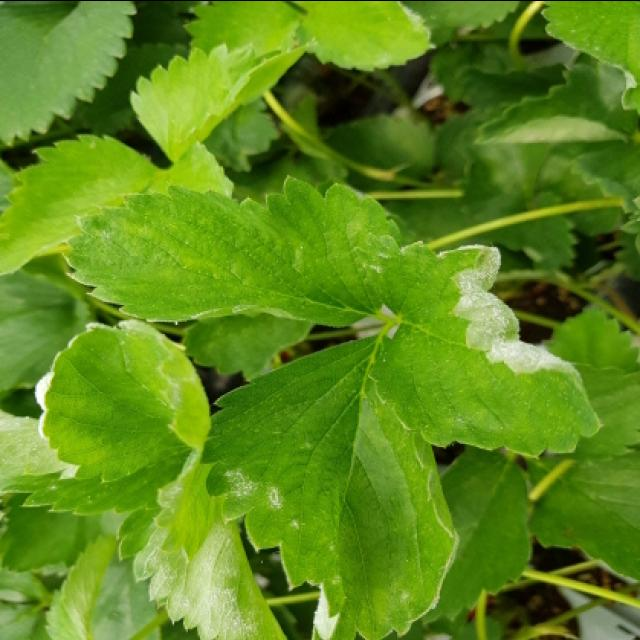Powdery Mildew Leaf: (199, 329, 463, 638), (355, 232, 603, 458), (59, 171, 403, 326), (117, 451, 290, 638), (34, 317, 211, 483), (0, 408, 188, 516), (295, 0, 439, 72)
